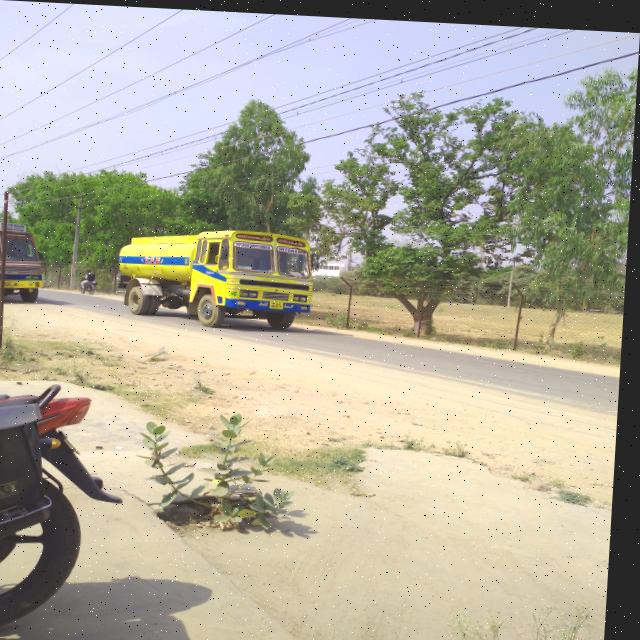plate: (273, 298, 287, 306), (7, 281, 16, 287)
